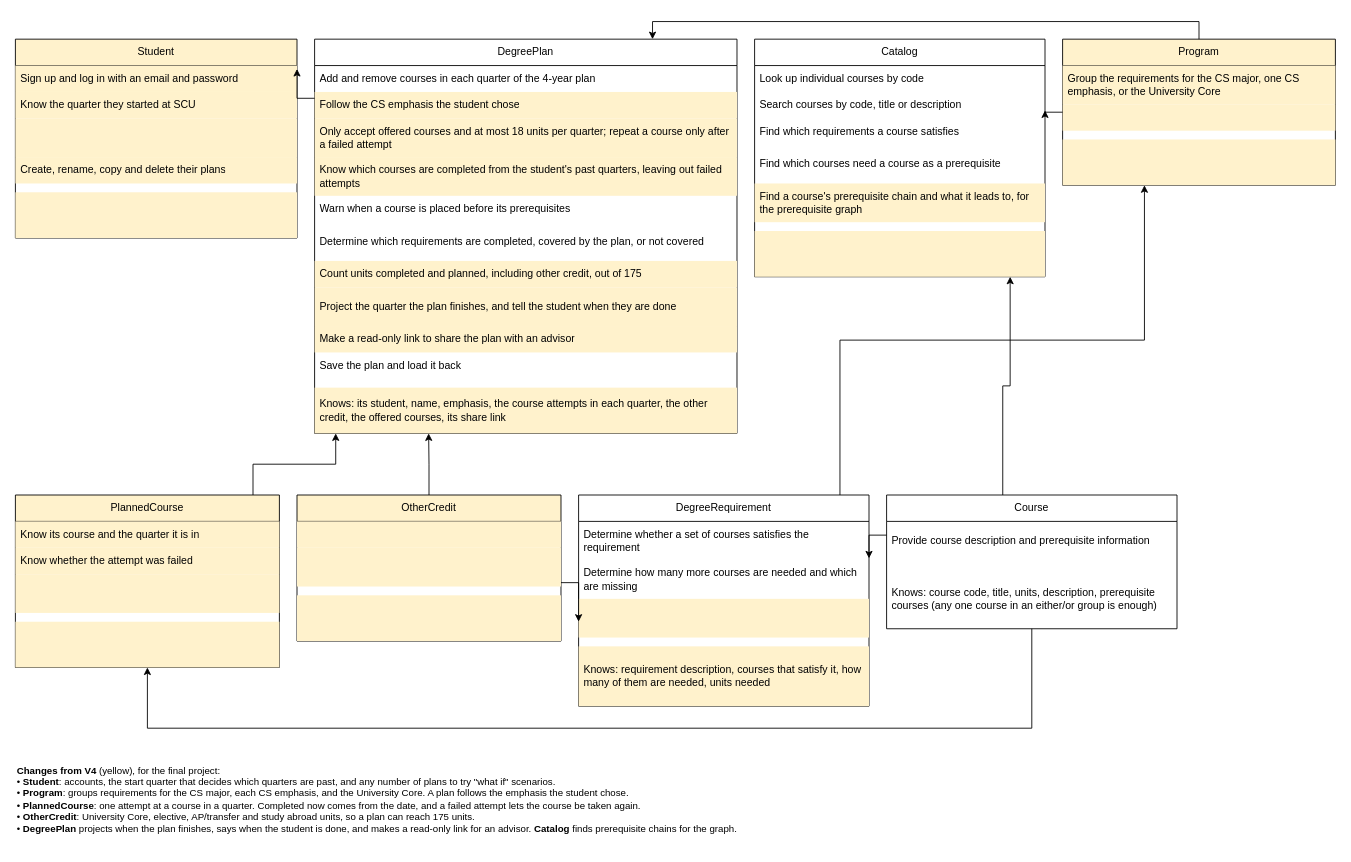
This 1351x862 diagram has some shape labels left out. The shapes that lost their labels are listed below. From the top down, each one's centre as x and y in pixels, then its label:
At point (156, 137): "Tell whether a quarter is past, in progress or upcoming".
At point (1198, 117): "List the emphases a student can choose from".
At point (1198, 162): "Knows: name, kind (major, emphasis or Core), its requirements".
At point (156, 215): "Knows: email, password hash, start year, their plans".
At point (899, 253): "Knows: the offered courses, the programs and their requirements".
At point (429, 534): "Count its units in a quarter or before SCU".
At point (429, 566): "Say whether it is Core, elective, AP/transfer or study abroad credit".
At point (147, 593): "Tell whether it is completed, in progress or planned".
At point (429, 618): "Knows: title, units, kind, quarter (or before SCU)".
At point (723, 617): "Count units toward unit-based requirements, like the University Core".
At point (147, 644): "Knows: course, quarter, whether it was failed".
